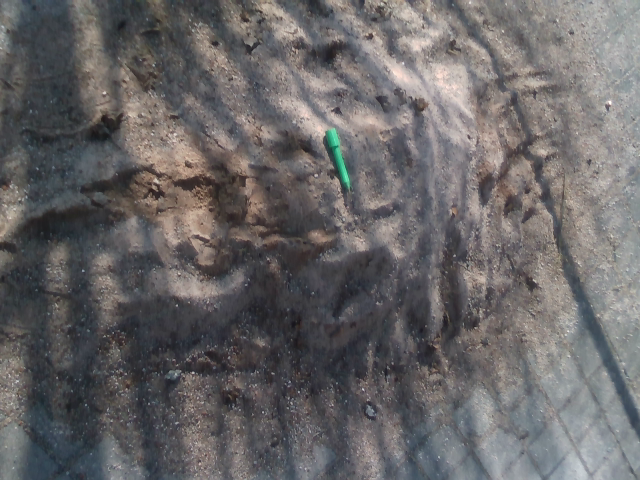Probe: (321, 126, 355, 199)
